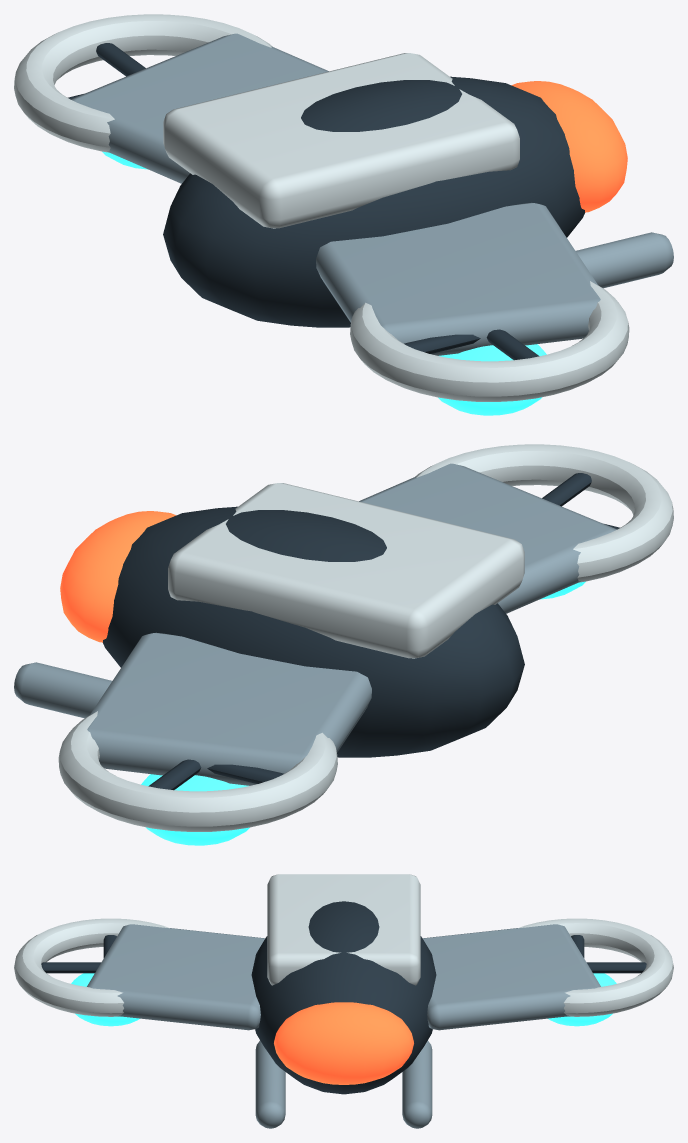
File: wasp.glb
The picture shows the model from 3 angles, top to bottom: view 1: azimuth 30°, elevation 25°; view 2: azimuth 150°, elevation 25°; view 3: azimuth 270°, elevation 25°; orthographic projection. The views are drawn at different scales.
Visible parts, largest first — view 1: Sensor carapace, Top shell, Swept pylon, Ducted fan, Swept pylon.001, Ducted fan.001, Forward optic, Twin pulse barrel, Ion thruster, Fan blade, Fan blade.003, Fan blade.001; view 2: Sensor carapace, Top shell, Swept pylon.001, Ducted fan.001, Swept pylon, Ducted fan, Forward optic, Twin pulse barrel.001, Ion thruster.001, Fan blade.002, Fan blade.001, Fan blade.003; view 3: Swept pylon, Swept pylon.001, Sensor carapace, Top shell, Forward optic, Ducted fan.001, Ducted fan, Twin pulse barrel, Twin pulse barrel.001, Ion thruster, Ion thruster.001, Fan blade.003 (+1 smaller).
Boxes of the visible parts, x1,y1,x2,y2 form: Sensor carapace: [163, 76, 584, 327]; Top shell: [163, 53, 519, 228]; Swept pylon: [316, 202, 600, 355]; Ducted fan: [350, 281, 629, 401]; Swept pylon.001: [71, 33, 328, 183]; Ducted fan.001: [14, 14, 272, 152]; Forward optic: [512, 81, 627, 212]; Twin pulse barrel: [576, 232, 673, 288]; Ion thruster: [438, 344, 546, 415]; Fan blade: [404, 334, 480, 353]; Fan blade.003: [96, 43, 145, 76]; Fan blade.001: [486, 329, 539, 360]; Sensor carapace: [103, 506, 524, 757]; Top shell: [168, 483, 524, 658]; Swept pylon.001: [87, 632, 371, 785]; Ducted fan.001: [58, 711, 337, 831]; Swept pylon: [359, 463, 616, 613]; Ducted fan: [415, 444, 673, 582]; Forward optic: [60, 511, 175, 642]; Twin pulse barrel.001: [14, 662, 111, 718]; Ion thruster.001: [141, 774, 249, 845]; Fan blade.002: [207, 764, 283, 783]; Fan blade.001: [542, 473, 591, 506]; Fan blade.003: [148, 759, 201, 790]; Swept pylon: [87, 924, 264, 1030]; Swept pylon.001: [423, 924, 600, 1030]; Sensor carapace: [251, 901, 436, 1094]; Top shell: [267, 874, 420, 985]; Forward optic: [274, 1002, 413, 1084]; Ducted fan.001: [518, 918, 673, 1016]; Ducted fan: [14, 918, 169, 1016]; Twin pulse barrel: [255, 1040, 285, 1128]; Twin pulse barrel.001: [402, 1040, 432, 1128]; Ion thruster: [71, 973, 139, 1026]; Ion thruster.001: [548, 973, 616, 1026]; Fan blade.003: [586, 962, 646, 973].
Size of the model in its own units: 1.11 by 0.5 by 2.07.
